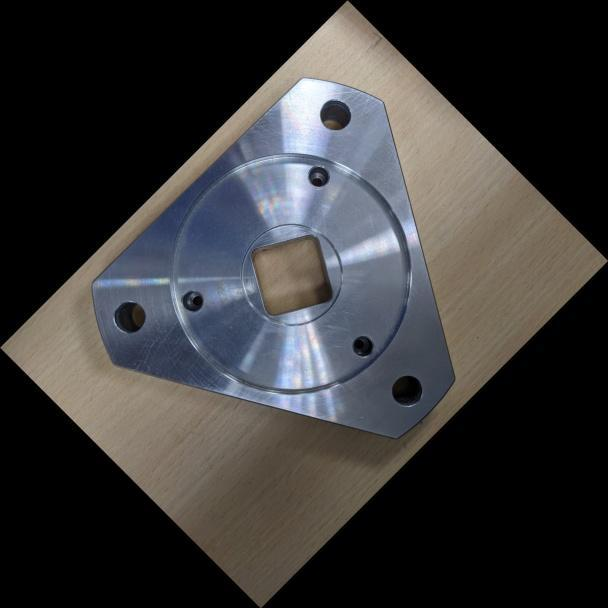hole: (377, 359, 439, 421), (98, 286, 156, 345), (306, 85, 364, 144), (164, 274, 216, 326), (337, 321, 389, 373), (296, 150, 343, 198)
